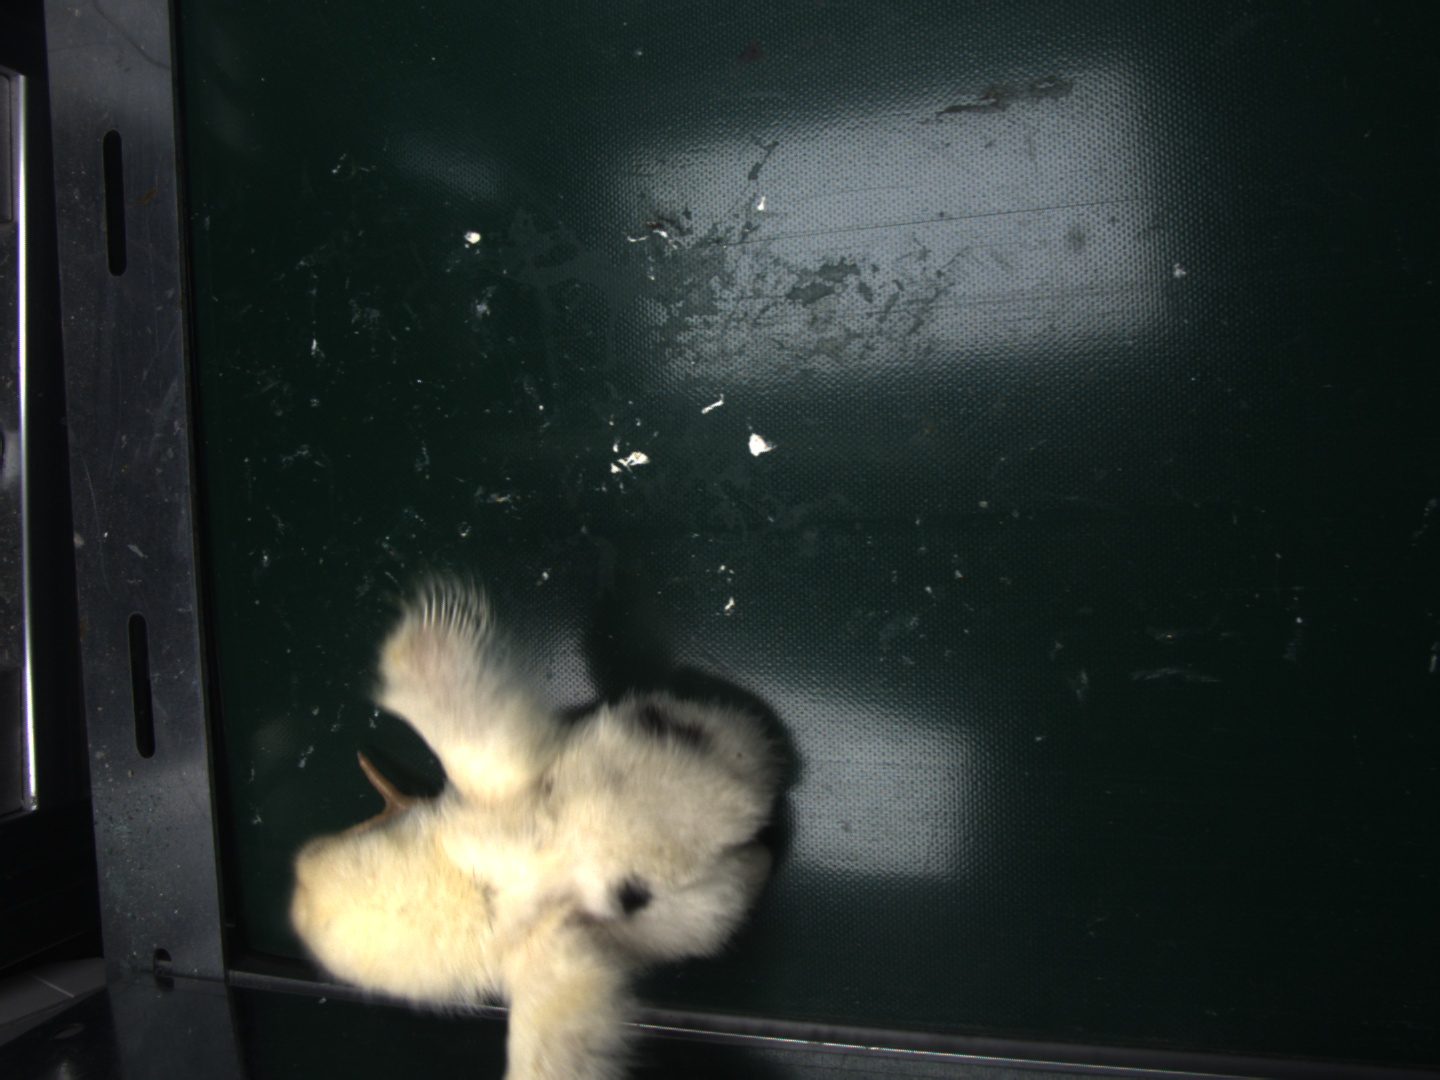male: (417, 601, 493, 653)
